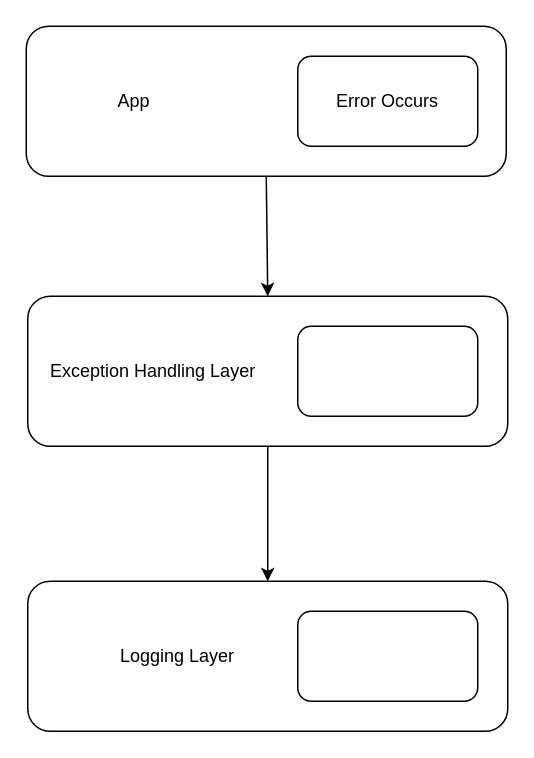
Image size: 534x758. Some labels were removed from this diagram. The shapes that lost their labels are listed below. From the top down, each one's centre as x and y in pixels, then its label:
At [387,370]: "Categorization".
At [387,655]: "Structured Log".
